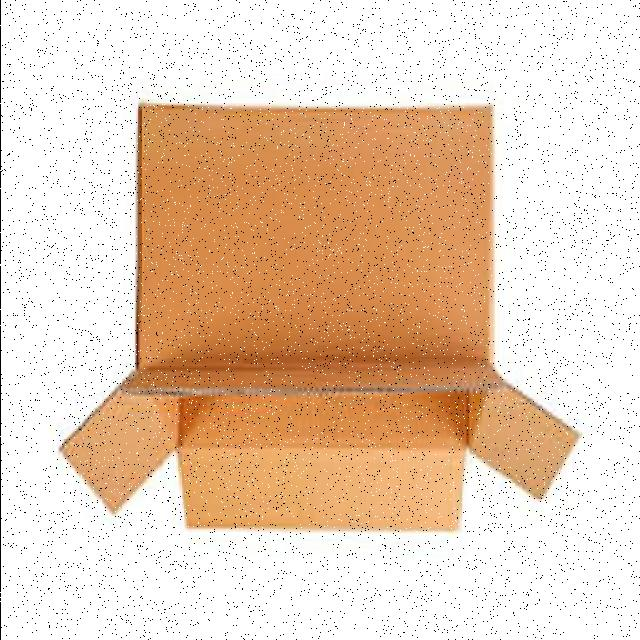defect: (57, 98, 574, 540)
